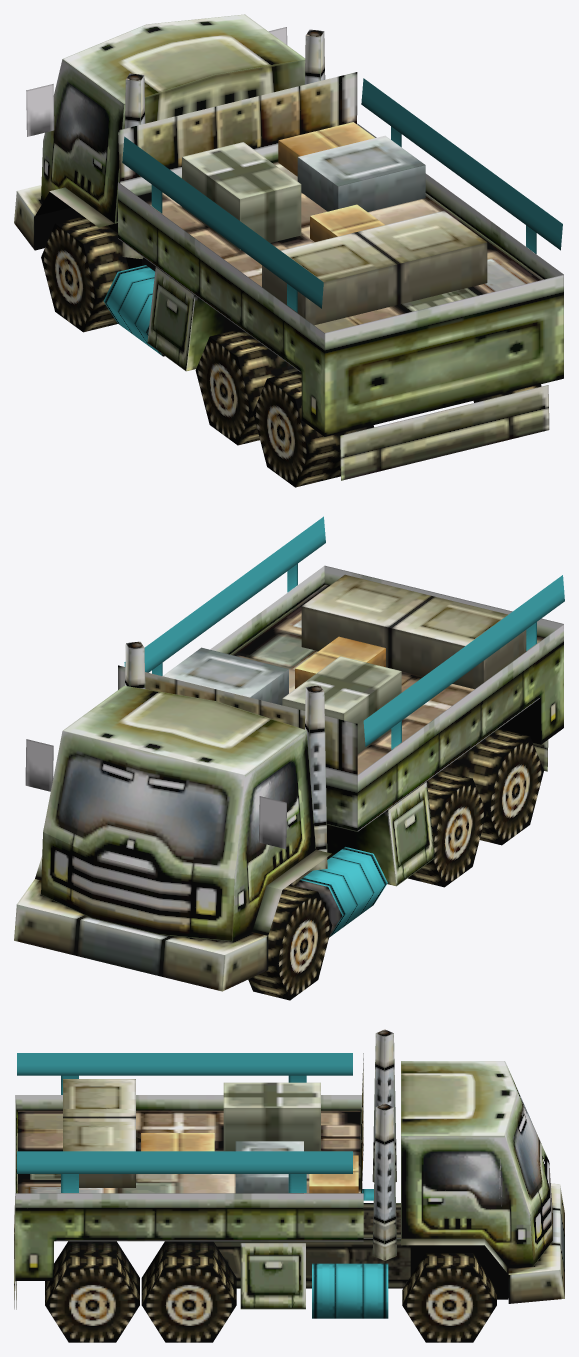
File: collector.glb
3 views of the same model, one above another, from view 1: azimuth 30°, elevation 25°; view 2: azimuth 150°, elevation 25°; view 3: azimuth 270°, elevation 25° (orthographic). The views are drawn at different scales.
Visible parts, largest first — view 1: NVSSUPPLYTK (×2), CARGO01, HOUSECOLOR01, TIRE01, TIRE03, TIRE05, HOUSECOLOR02; view 2: NVSSUPPLYTK (×2), CARGO01, HOUSECOLOR01, TIRE05, TIRE01, TIRE03, HOUSECOLOR02; view 3: NVSSUPPLYTK (×2), CARGO01, HOUSECOLOR01, TIRE04, TIRE06, TIRE02, HOUSECOLOR02.
Part boxes in pixels (x1=…): NVSSUPPLYTK (×2): x1=14, y1=14, x2=563, y2=480; CARGO01: x1=138, y1=122, x2=543, y2=332; HOUSECOLOR01: x1=122, y1=78, x2=562, y2=312; TIRE01: x1=41, y1=216, x2=128, y2=332; TIRE03: x1=195, y1=329, x2=298, y2=445; TIRE05: x1=253, y1=371, x2=373, y2=487; HOUSECOLOR02: x1=103, y1=265, x2=162, y2=355; NVSSUPPLYTK (×2): x1=14, y1=565, x2=563, y2=991; CARGO01: x1=162, y1=574, x2=544, y2=774; HOUSECOLOR01: x1=124, y1=516, x2=564, y2=749; TIRE05: x1=441, y1=729, x2=543, y2=845; TIRE01: x1=248, y1=885, x2=332, y2=1000; TIRE03: x1=388, y1=771, x2=486, y2=887; HOUSECOLOR02: x1=300, y1=847, x2=387, y2=937; NVSSUPPLYTK (×2): x1=14, y1=1029, x2=564, y2=1309; CARGO01: x1=18, y1=1079, x2=360, y2=1193; HOUSECOLOR01: x1=17, y1=1053, x2=352, y2=1192; TIRE04: x1=141, y1=1241, x2=236, y2=1342; TIRE06: x1=45, y1=1241, x2=139, y2=1342; TIRE02: x1=402, y1=1253, x2=496, y2=1342; HOUSECOLOR02: x1=312, y1=1189, x2=388, y2=1318.
Bounding box in the file's own units: 15.89 × 15.5 × 34.51.
Materials: 11 (11 with a texture image).
